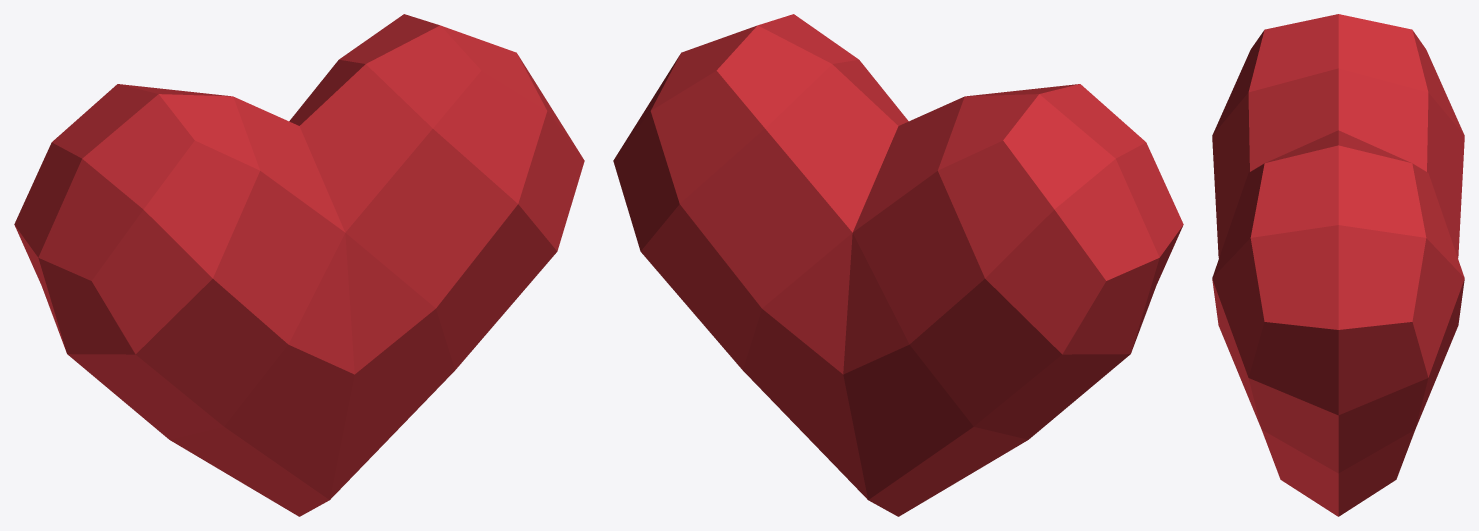
The model's file is props_heart.fbx.
3 views of the same model, side by side, from view 1: azimuth 30°, elevation 25°; view 2: azimuth 150°, elevation 25°; view 3: azimuth 270°, elevation 25° (orthographic). The views are drawn at different scales.
Visible parts, largest first — view 1: props_heart; view 2: props_heart; view 3: props_heart.
Boxes of the visible parts, x1,y1,x2,y2 form: props_heart: [14, 14, 584, 516]; props_heart: [613, 14, 1183, 516]; props_heart: [1212, 14, 1464, 516].
Bounding box in the file's own units: 200 × 167 × 87.61.
